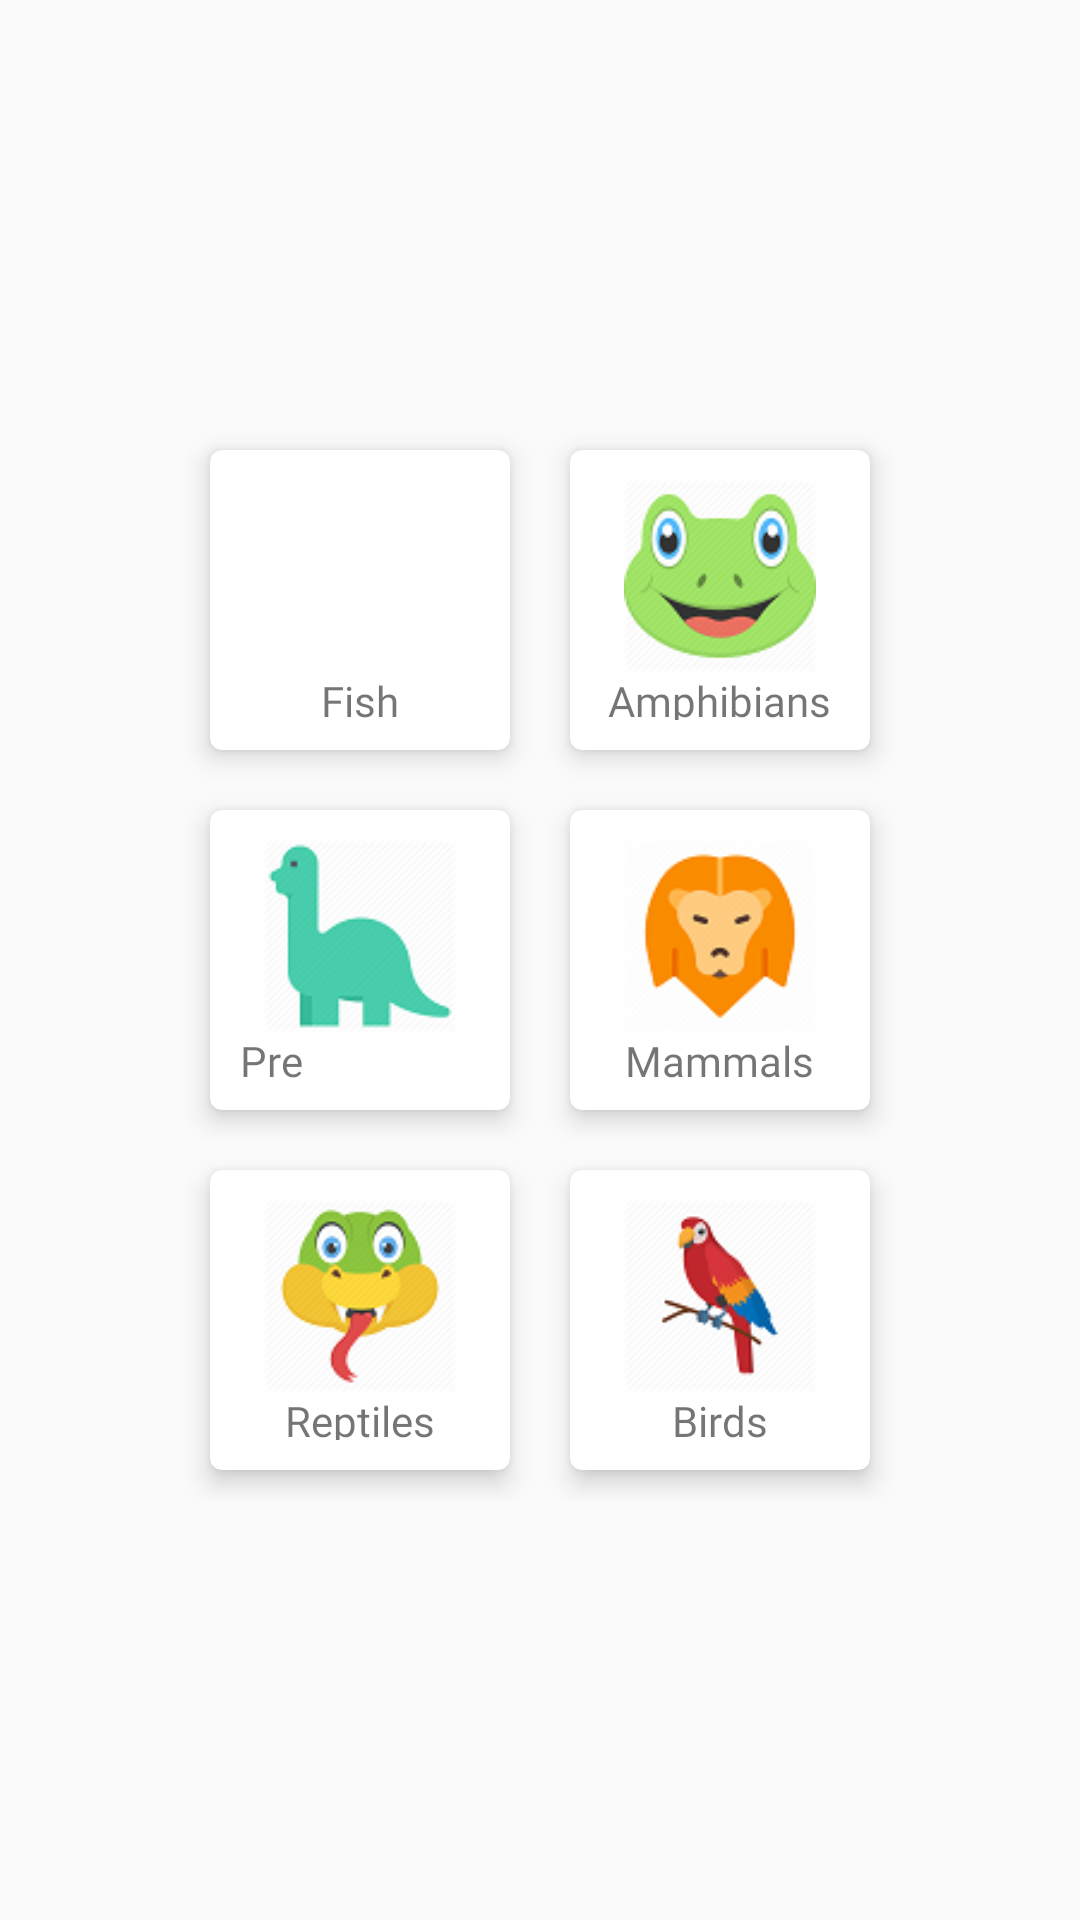

Screen size 1080 x 1920. Icon name, then its box in pixels as {"left": x1, "top": y1, "right": x2, "bottom": y2}:
frog: {"left": 624, "top": 494, "right": 816, "bottom": 658}
